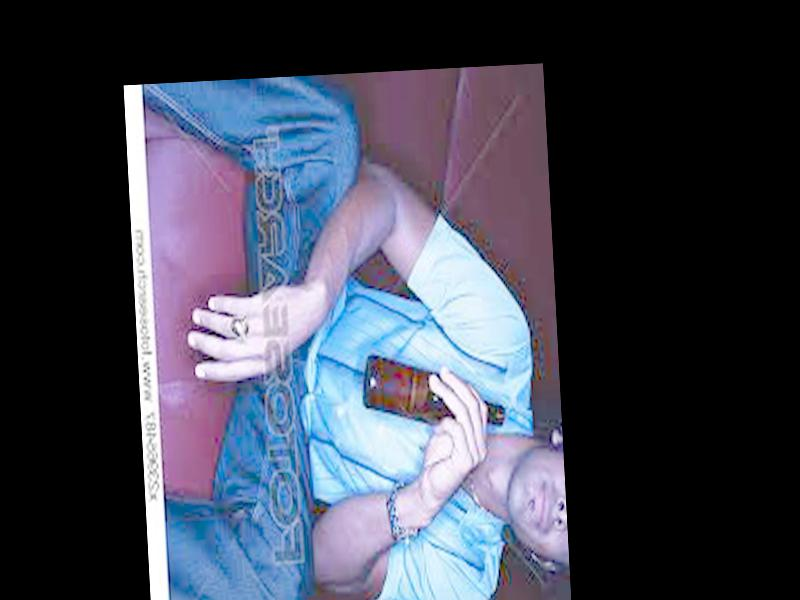Beer: (361, 345, 506, 434)
